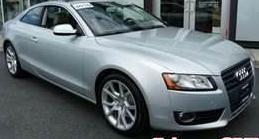front_view: (141, 50, 258, 131)
headlight: (160, 68, 222, 95)
side_glass: (22, 6, 86, 36)
